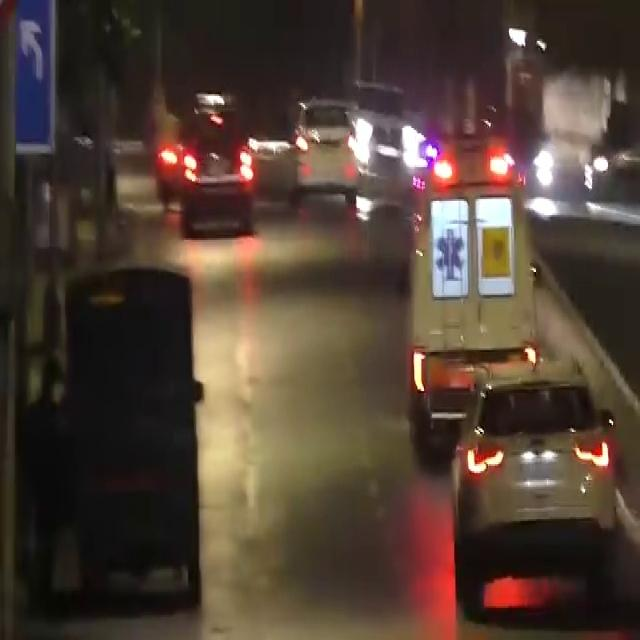ambulance: (407, 143, 543, 407)
